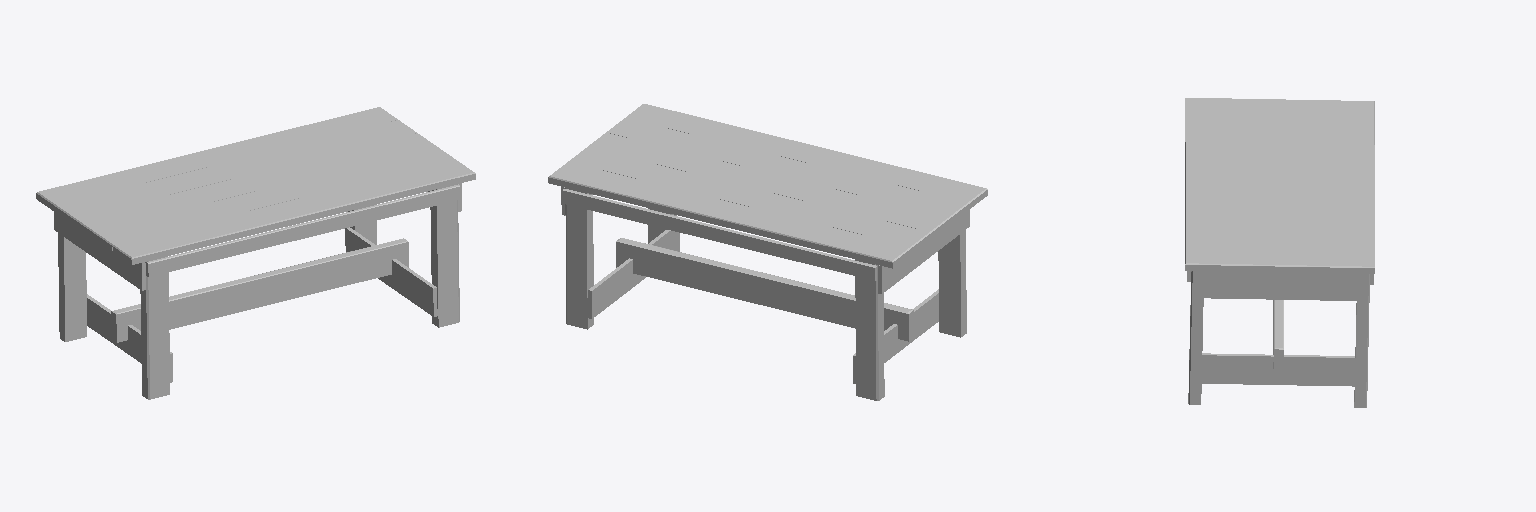
The model's file is Wooden_Table.obj.
3 renders of one model, left to right at view 1: azimuth 30°, elevation 25°; view 2: azimuth 150°, elevation 25°; view 3: azimuth 270°, elevation 25°, orthographic.
Visible parts, largest first — view 1: Table_Top, Table_bot; view 2: Table_Top, Table_bot; view 3: Table_Top, Table_bot.
Part boxes in pixels (x1,y1,x2,y2): Table_Top: (36,107,475,264); Table_bot: (54,183,461,399); Table_Top: (548,104,987,268); Table_bot: (561,187,969,400); Table_Top: (1185,98,1374,273); Table_bot: (1187,271,1373,407).
Bounding box in the file's own units: 0.9938 × 0.4207 × 0.4767.